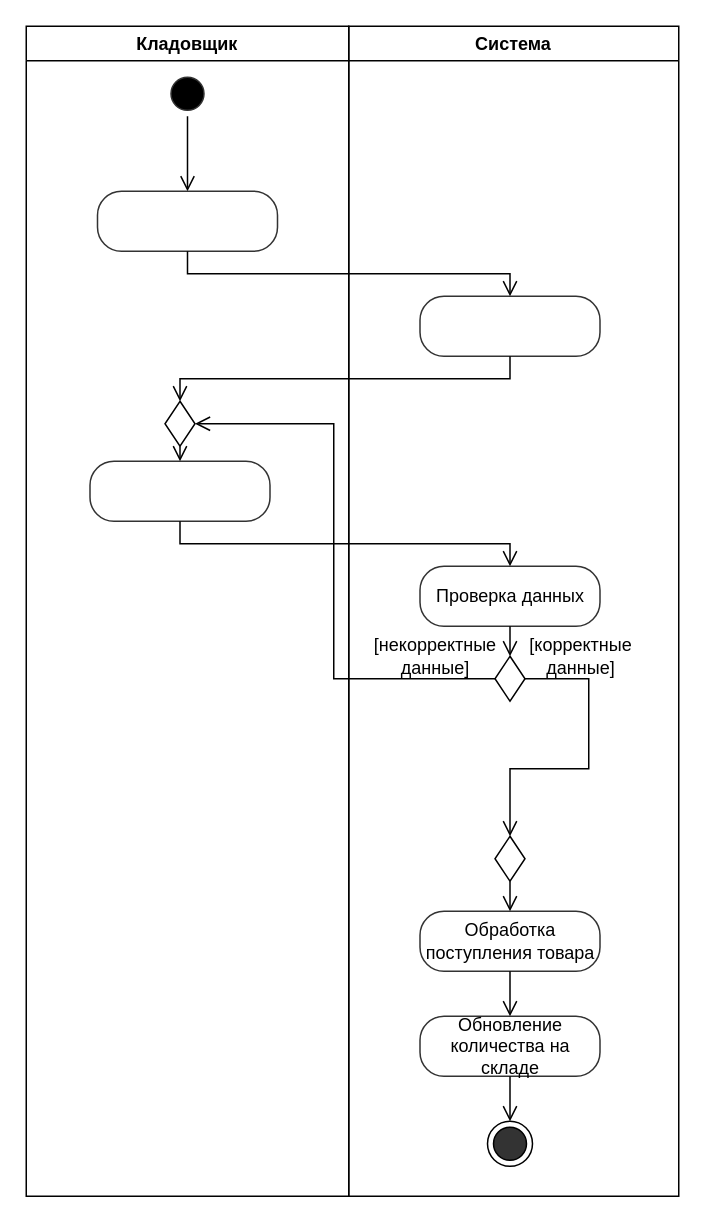
The diagram is 705 pixels wide and 1223 high, and some of its shapes have lost their labels. The shapes that lost their labels are listed below. From the top down, each one's centre as x and y in pixels, then its label:
point (187, 220): Выбор операции "Прием товара"
point (509, 325): Отображение формы приема
point (179, 490): Ввод данных поставки
